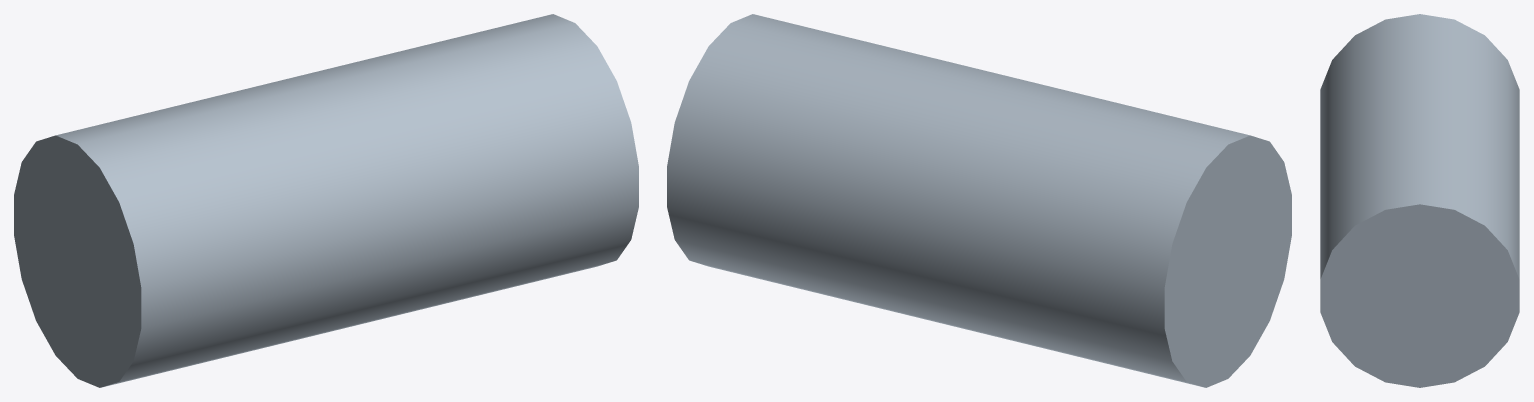
The model's file is sim_cer_torso_pin_eq.dae.
The picture shows the model from 3 angles, left to right: view 1: azimuth 30°, elevation 25°; view 2: azimuth 150°, elevation 25°; view 3: azimuth 270°, elevation 25°; orthographic projection. The views are drawn at different scales.
Visible parts, largest first — view 1: mynode; view 2: mynode; view 3: mynode.
Boxes of the visible parts, bbox=[...] form: mynode: bbox=[14, 14, 638, 387]; mynode: bbox=[667, 14, 1291, 387]; mynode: bbox=[1320, 14, 1519, 387].
Bounding box in the file's own units: 100 × 45 × 44.32.
